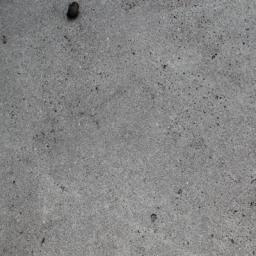FOD: (65, 2, 83, 22)
